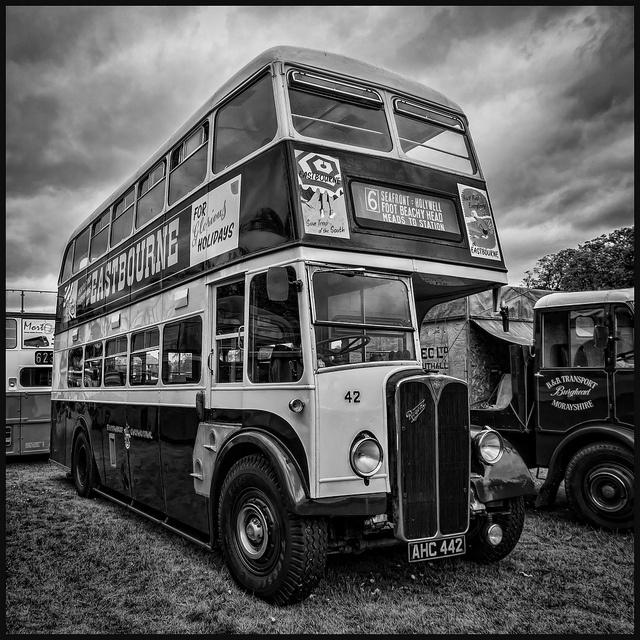bus: (46, 47, 541, 608), (0, 311, 54, 454)
truck: (412, 286, 631, 528)
